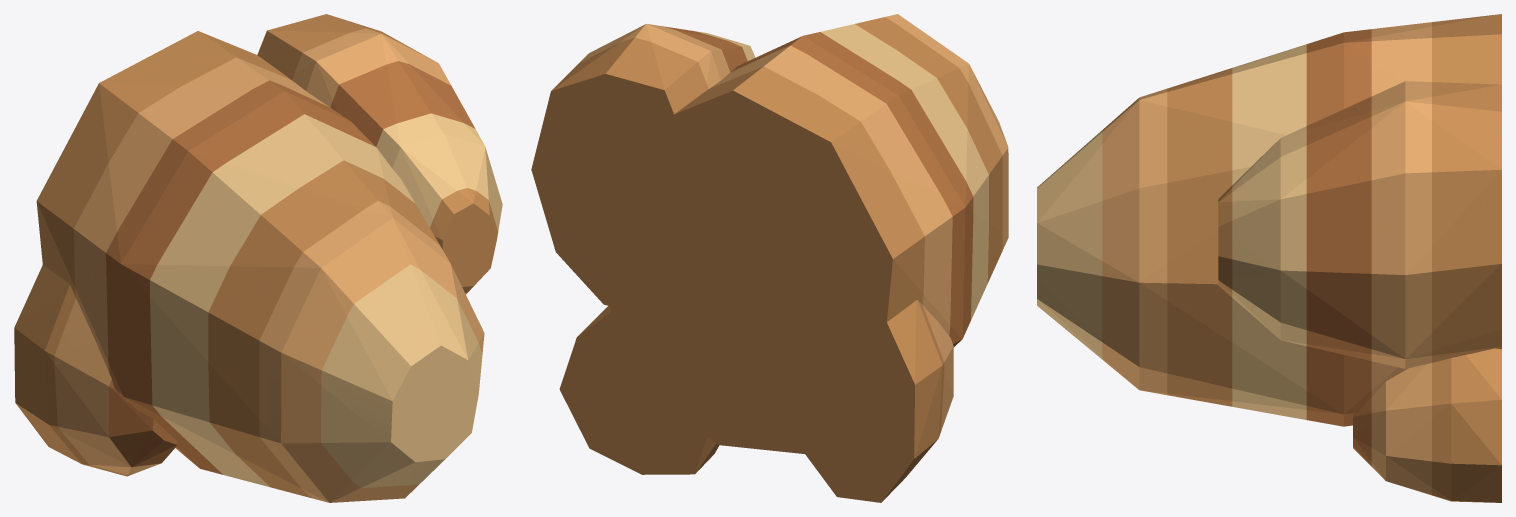
Rendered from k-mesa-b.glb.
3 views of the same model, side by side, from view 1: azimuth 30°, elevation 25°; view 2: azimuth 150°, elevation 25°; view 3: azimuth 270°, elevation 25° (orthographic).
Parts seen in each view (by area): view 1: Solid.003, Chunk_05.003, Chunk_10.003, Chunk_01.003, Chunk_00.003, Chunk_06.003, Chunk_02.003, Chunk_13.003, Chunk_18.003, Chunk_04.003, Chunk_14.003, Chunk_09.003 (+2 smaller); view 2: Solid.003, Chunk_10.003, Chunk_08.003, Chunk_09.003, Chunk_11.003, Chunk_14.003, Chunk_05.003, Chunk_18.003, Chunk_19.003, Chunk_20.003, Chunk_06.003, Chunk_00.003 (+6 smaller); view 3: Solid.003, Chunk_06.003, Chunk_02.003, Chunk_11.003, Chunk_04.003, Chunk_00.003, Chunk_19.003, Chunk_15.003, Chunk_10.003, Chunk_08.003, Chunk_03.003, Chunk_14.003 (+1 smaller).
Boxes of the visible parts, x1,y1,x2,y2 form: Solid.003: (17, 14, 496, 502); Chunk_05.003: (76, 160, 302, 416); Chunk_10.003: (36, 31, 285, 261); Chunk_01.003: (190, 286, 410, 501); Chunk_00.003: (285, 159, 466, 392); Chunk_06.003: (321, 20, 502, 278); Chunk_02.003: (358, 301, 484, 498); Chunk_13.003: (39, 352, 178, 476); Chunk_18.003: (14, 265, 99, 434); Chunk_04.003: (282, 77, 439, 246); Chunk_14.003: (257, 17, 342, 115); Chunk_09.003: (42, 255, 200, 468); Solid.003: (531, 24, 1007, 502); Chunk_10.003: (689, 35, 936, 311); Chunk_08.003: (593, 86, 747, 420); Chunk_09.003: (688, 278, 969, 454); Chunk_11.003: (531, 64, 626, 307); Chunk_14.003: (618, 44, 733, 316); Chunk_05.003: (876, 52, 998, 323); Chunk_18.003: (852, 300, 948, 490); Chunk_19.003: (559, 314, 641, 471); Chunk_20.003: (641, 318, 716, 474); Chunk_06.003: (578, 24, 755, 68); Chunk_00.003: (854, 14, 984, 93); Solid.003: (1037, 32, 1501, 502); Chunk_06.003: (1218, 86, 1484, 341); Chunk_02.003: (1037, 219, 1281, 400); Chunk_11.003: (1322, 103, 1501, 367); Chunk_04.003: (1136, 43, 1415, 340); Chunk_00.003: (1037, 60, 1264, 223); Chunk_19.003: (1388, 354, 1501, 502); Chunk_15.003: (1353, 348, 1501, 481); Chunk_10.003: (1274, 14, 1501, 84); Chunk_08.003: (1262, 330, 1501, 416); Chunk_03.003: (1220, 389, 1352, 426); Chunk_14.003: (1371, 81, 1501, 105).
Size of the model in its own units: 0.01 by 0.01 by 0.01.
Materials: 1 (1 with a texture image).
